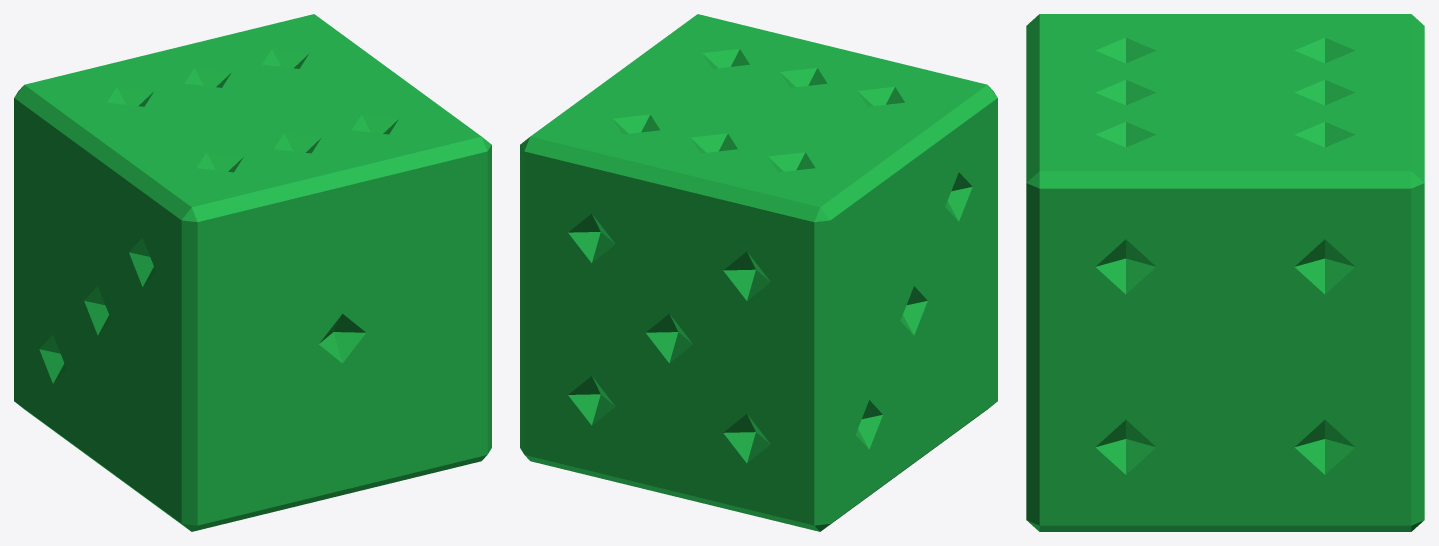
File: CUBEDICE.glb
3 renders of one model, left to right at view 1: azimuth 30°, elevation 25°; view 2: azimuth 150°, elevation 25°; view 3: azimuth 270°, elevation 25°, orthographic. The views are drawn at different scales.
Bounding box in the file's own units: 0.0249 × 0.0249 × 0.0249.
